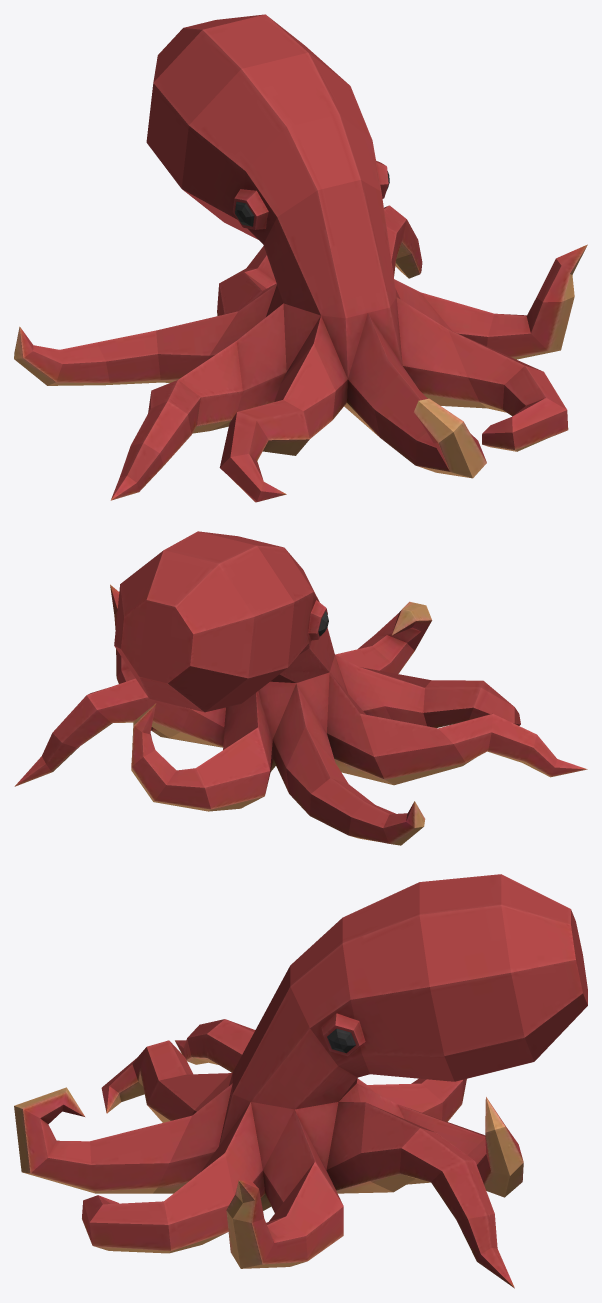
File: 9-b6-yqrwEe.glb
3 views of the same model, one above another, from view 1: azimuth 30°, elevation 25°; view 2: azimuth 150°, elevation 25°; view 3: azimuth 270°, elevation 25° (orthographic). The views are drawn at different scales.
Parts seen in each view (by area): view 1: Octopus_mesh; view 2: Octopus_mesh; view 3: Octopus_mesh.
Boxes of the visible parts, <box> form: Octopus_mesh: <box>14,14,587,502</box>; Octopus_mesh: <box>14,531,587,845</box>; Octopus_mesh: <box>14,874,587,1288</box>.
Bounding box in the file's own units: 1.76 × 0.9999 × 1.71.
Materials: 1 (1 with a texture image).
